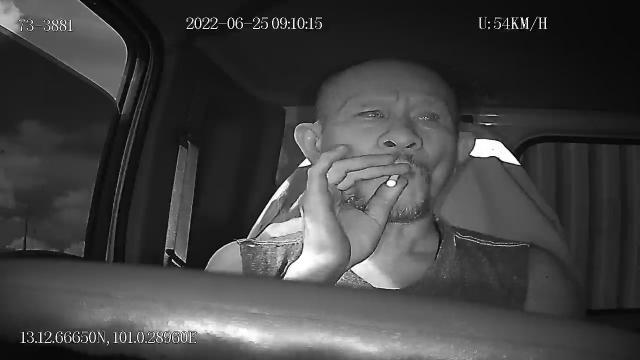SafeDriving: (406, 102, 444, 129), (351, 100, 392, 125)
Smoking: (386, 170, 402, 188)
